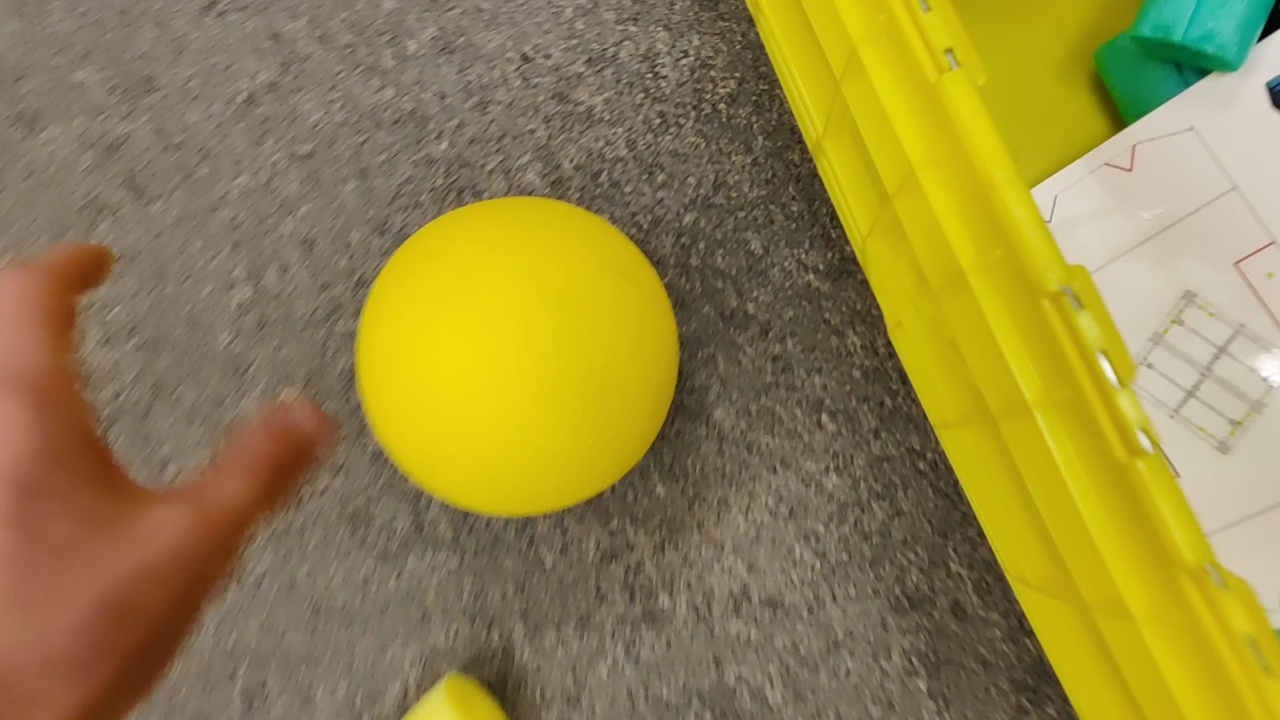Ball: (354, 196, 682, 521)
